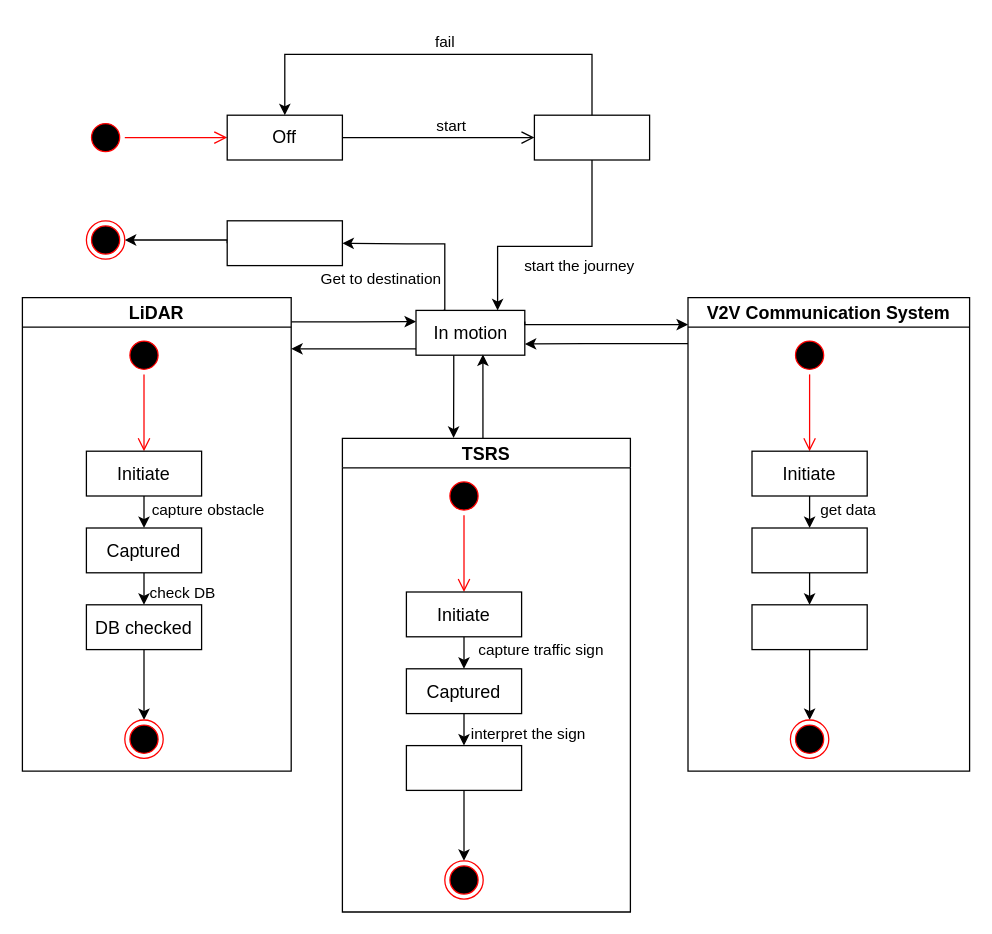
The diagram is 992 pixels wide and 934 high, and some of its shapes have lost their labels. Here are the shapes that lost their labels. From the top down, the centre of each, then its label:
point 591,137: Self test
point 284,243: Stop
point 809,550: Data received
point 809,627: DB updated
point 463,767: Interpreted
